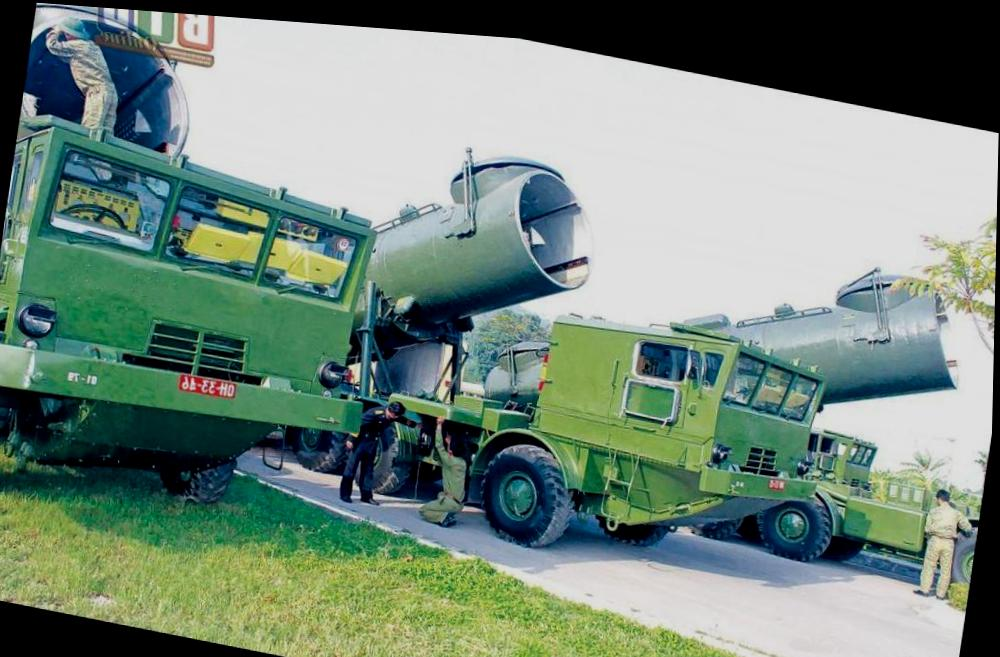License_Plate: (172, 369, 236, 404), (764, 478, 791, 491)
